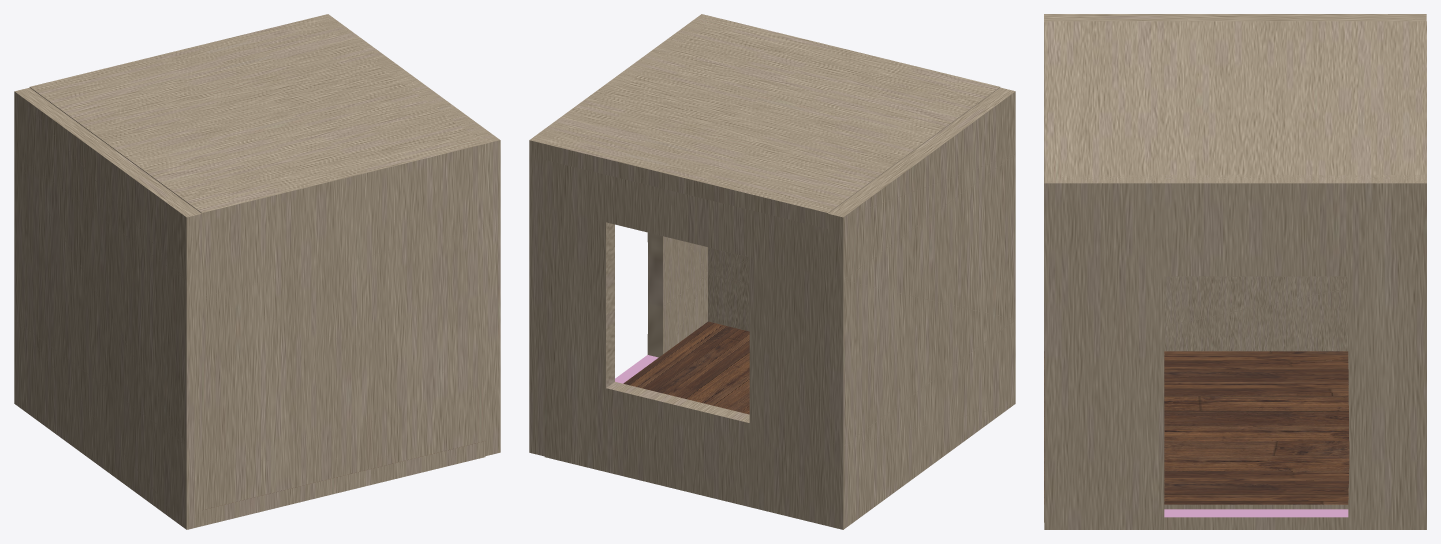
File: стены.fbx
The picture shows the model from 3 angles, left to right: view 1: azimuth 30°, elevation 25°; view 2: azimuth 150°, elevation 25°; view 3: azimuth 270°, elevation 25°; orthographic projection. The views are drawn at different scales.
Parts seen in each view (by area): view 1: комната.001, комната; view 2: комната, комната.001; view 3: комната.001, комната.
Part boxes in pixels (left/top/right/bottom): комната.001: left=29, top=14, right=500, bottom=509; комната: left=14, top=87, right=485, bottom=529; комната: left=544, top=87, right=1015, bottom=529; комната.001: left=529, top=14, right=1000, bottom=456; комната.001: left=1044, top=21, right=1426, bottom=529; комната: left=1044, top=14, right=1426, bottom=522.
Size of the model in its own units: 701 by 668 by 667.
